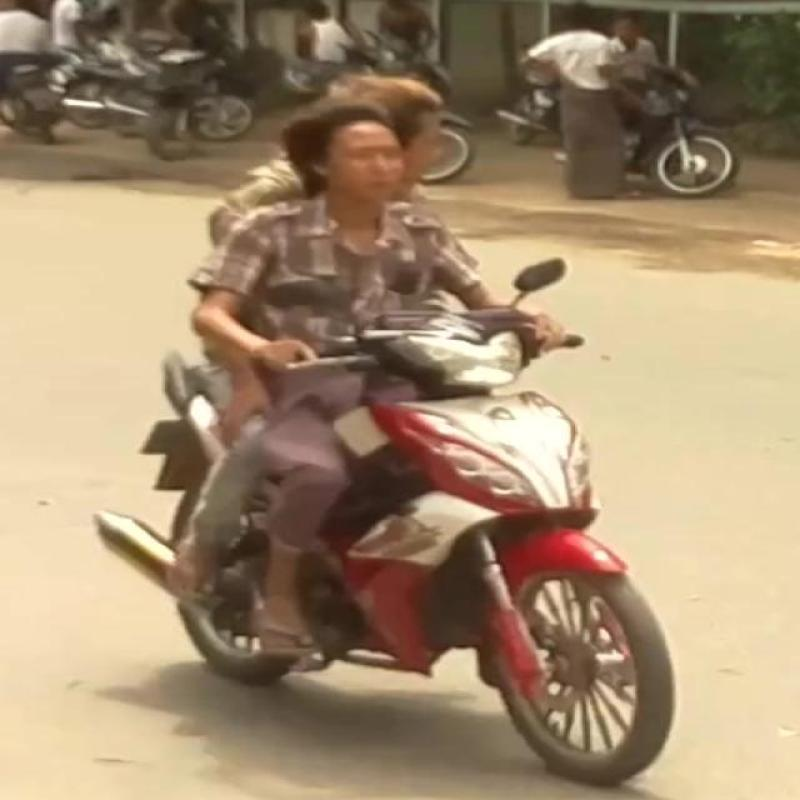nohelmet: (249, 103, 442, 211)
